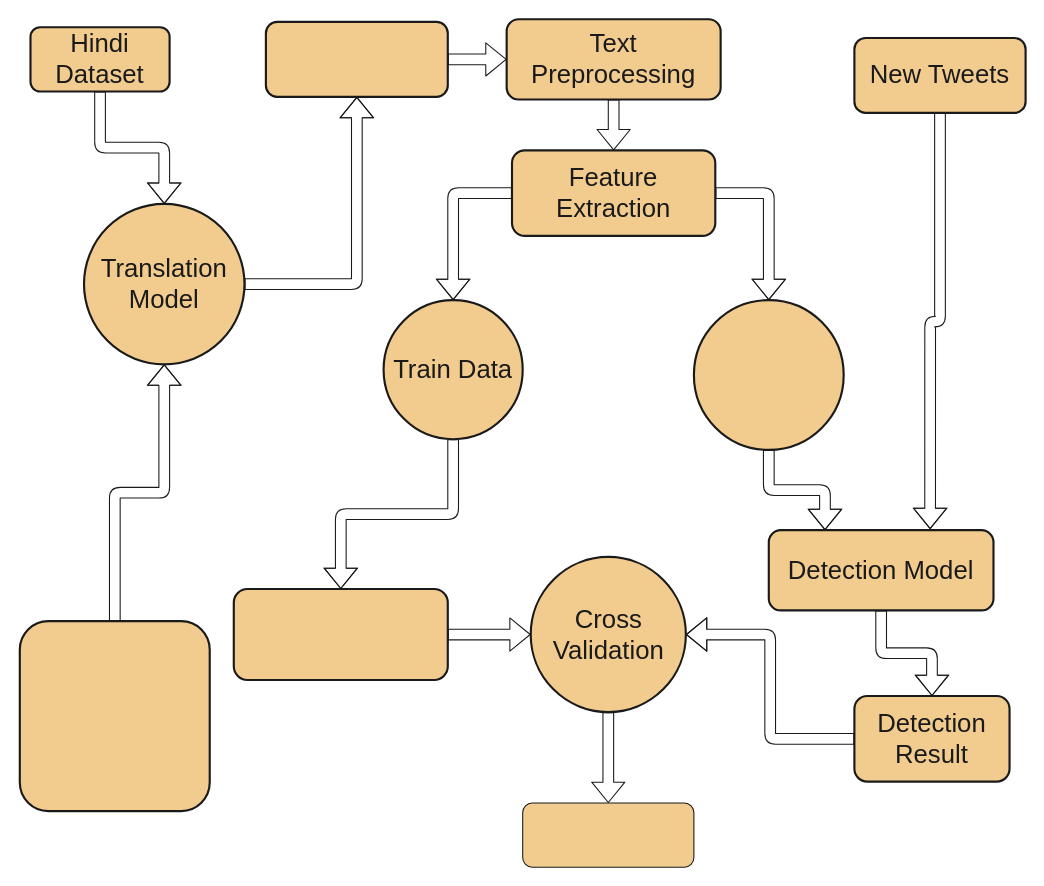
Image size: 1044x886. Some labels were removed from this diagram. Here are the shapes that lost their labels. From the top down, the centre of each, then its label:
At [356,58]: "Dataset".
At [768,374]: "Test Data".
At [340,634]: "Naïve Bayes model".
At [114,716]: "Hindi-english Dataset".
At [608,834]: "Evalution Result".
